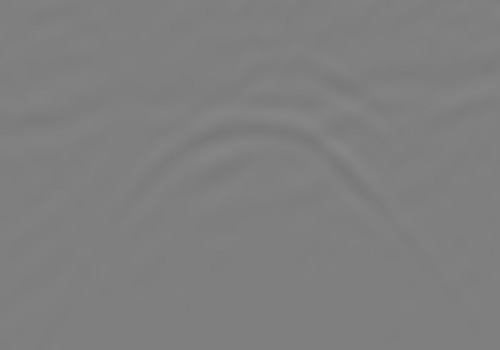hyperbola: (77, 108, 444, 290)
